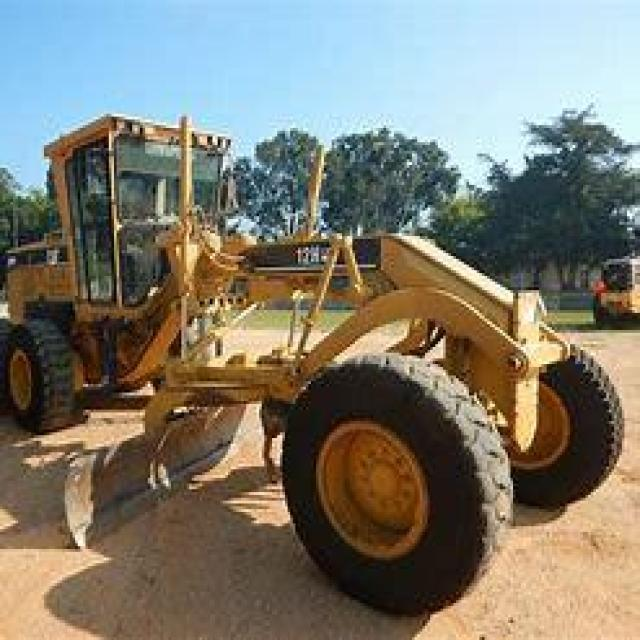buldozerpayloadergrader: (13, 108, 637, 603)
